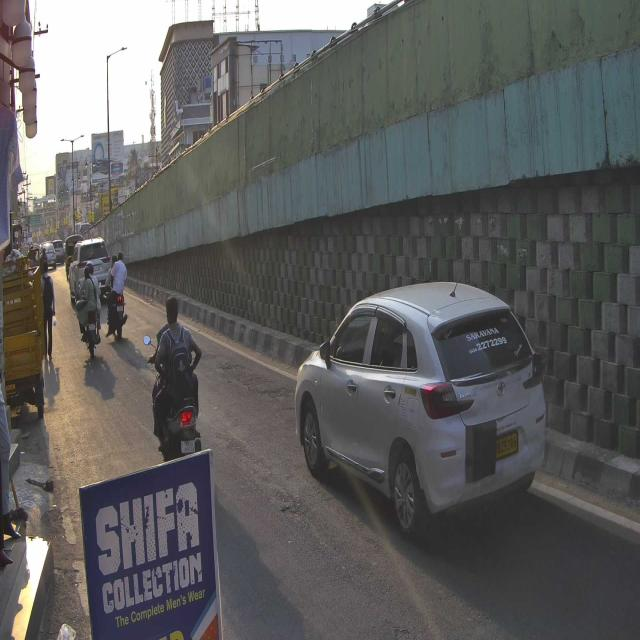double_rider: (143, 296, 204, 464)
